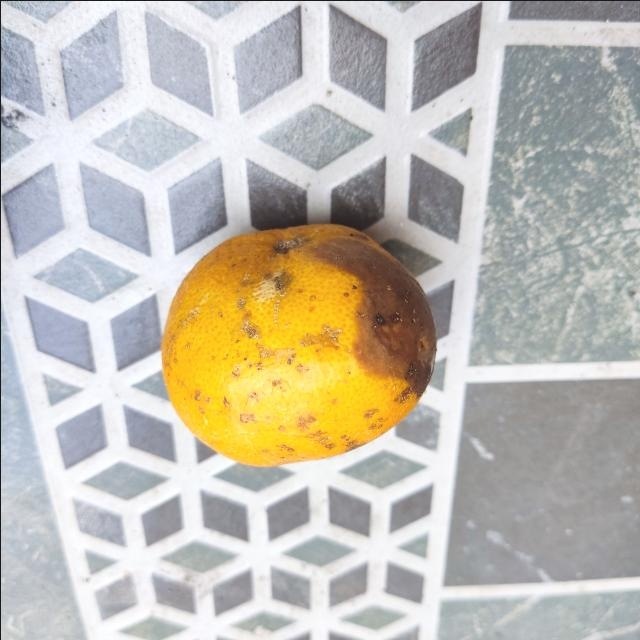agrume: (155, 223, 437, 467)
